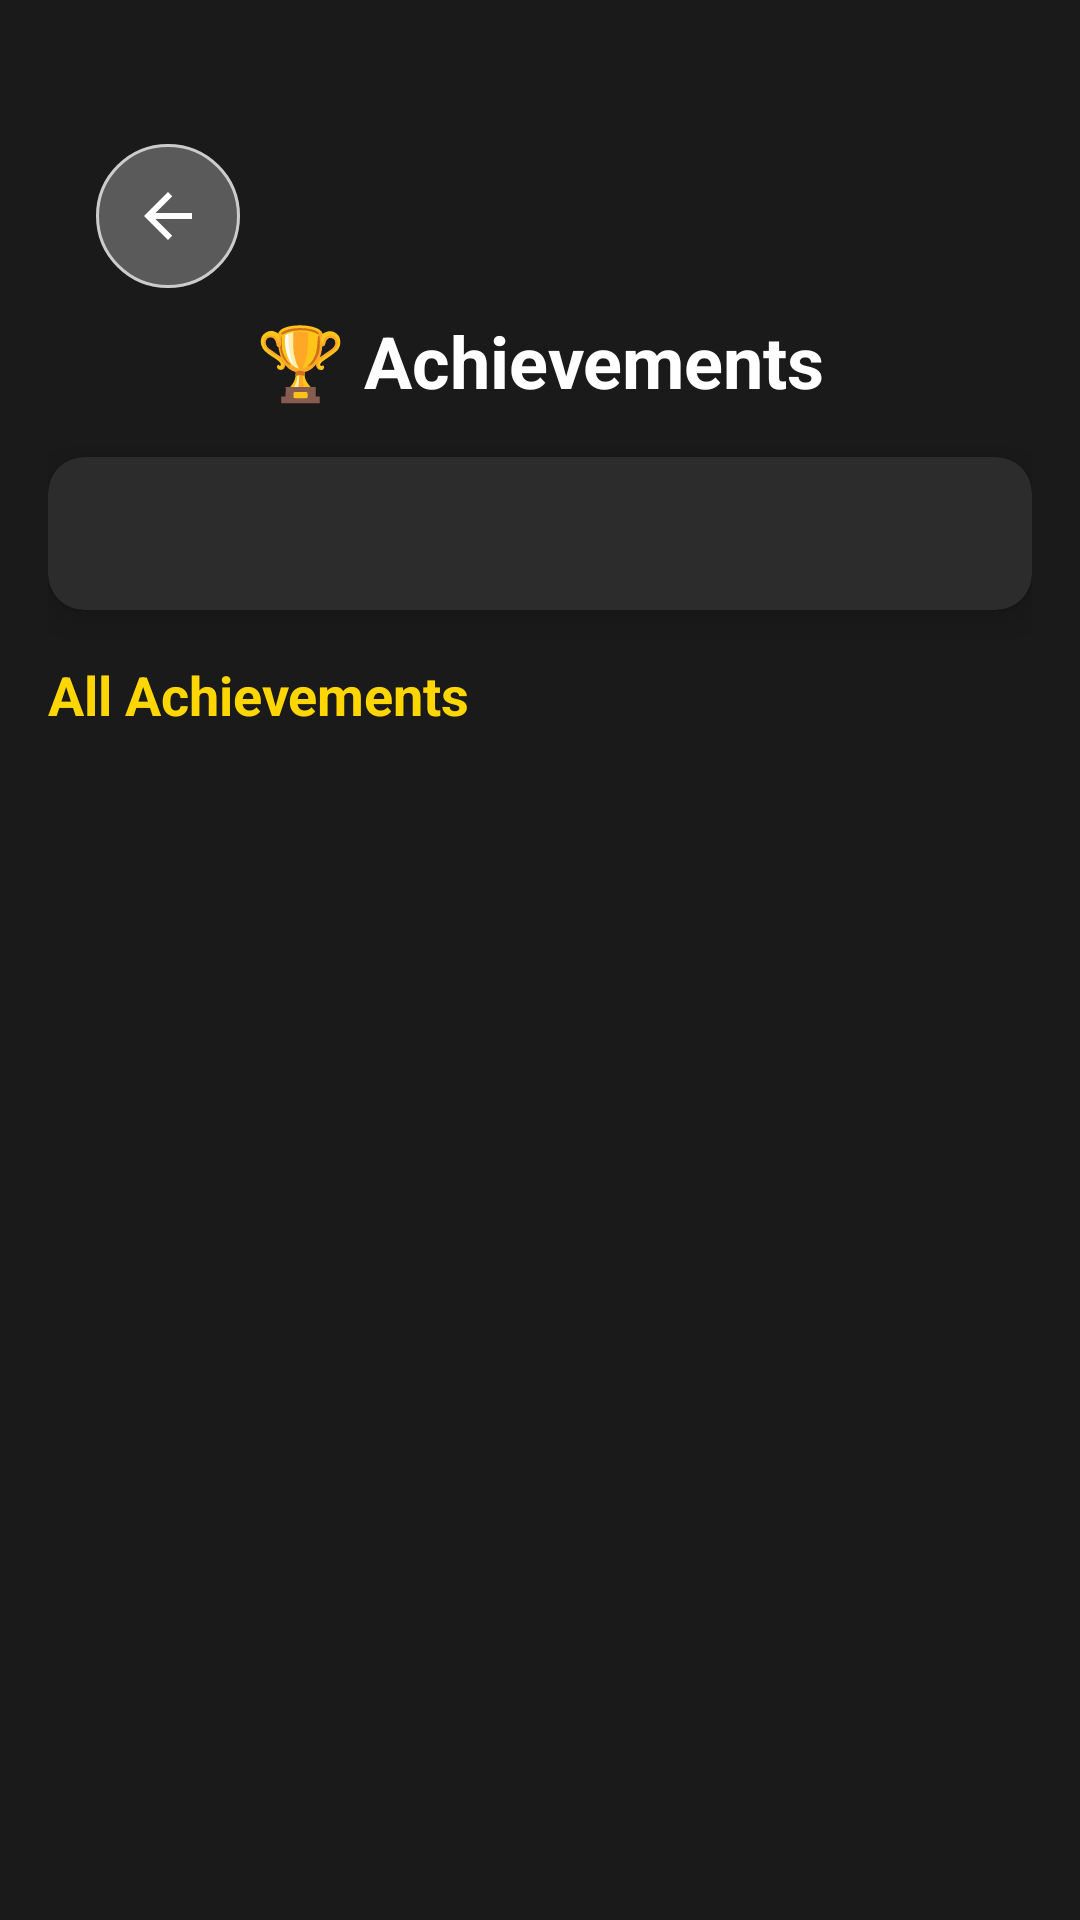

Locate icon controls on the screen. Image size 1080px x 1920px, boxes as (x1, y1, x2, y2).
Back: (96, 144, 240, 288)
